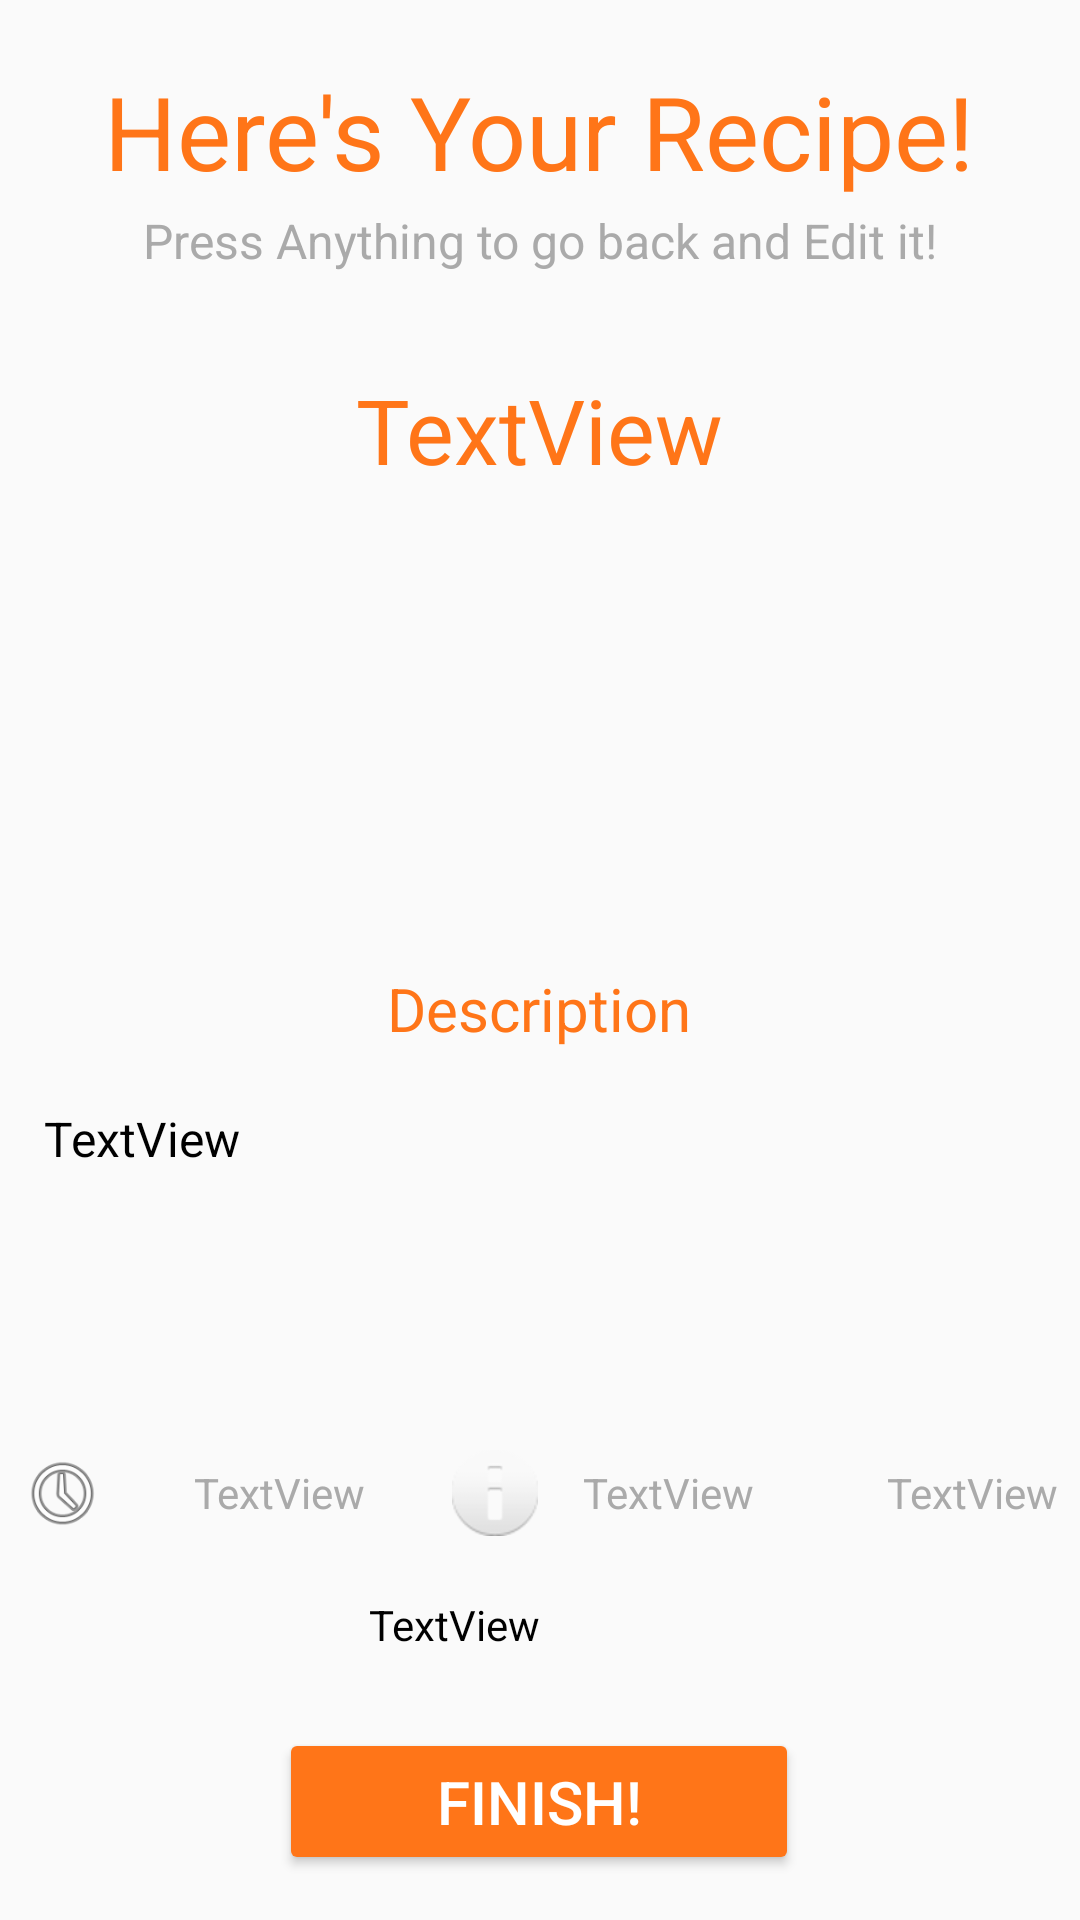

Icons on this 1080px x 1920px Android screen, each with its box as rect(x1, y1, x2, y2):
info details: rect(452, 1466, 538, 1536)
recent history: rect(31, 1462, 94, 1525)
